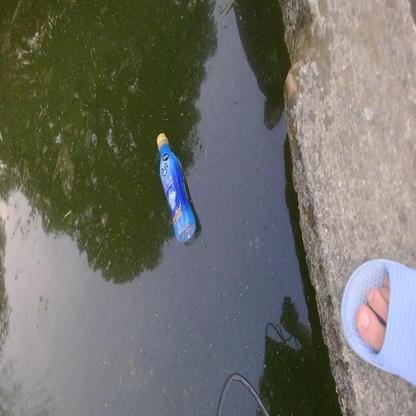plastic bottle: (154, 133, 198, 243)
